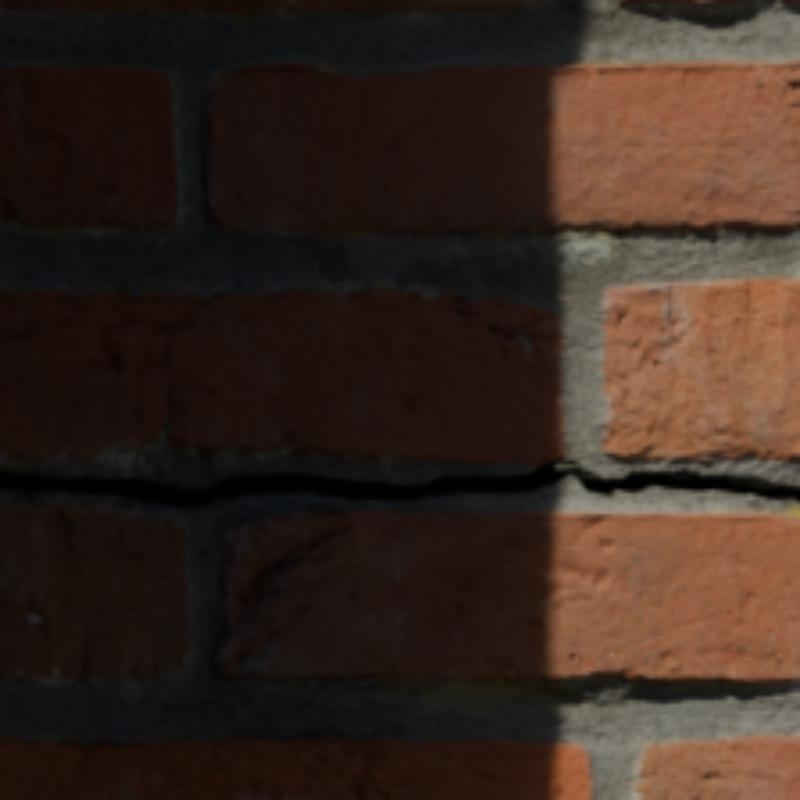pothole: (0, 457, 796, 504)
